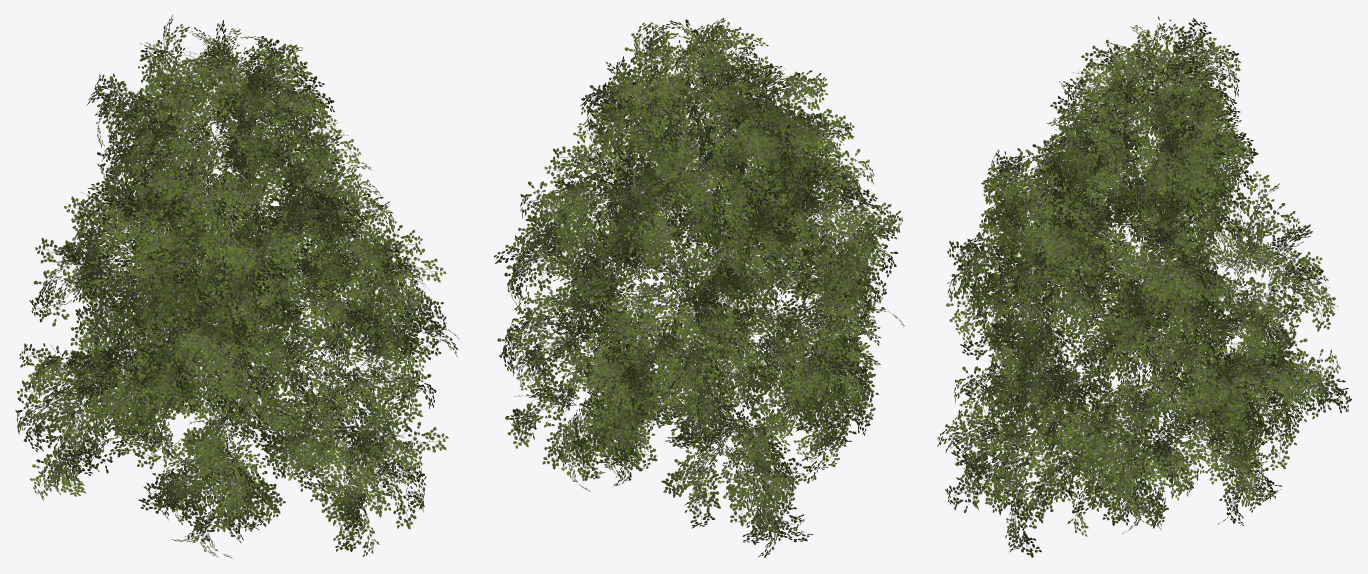
File: TREE LEAVES.fbx
The picture shows the model from 3 angles, left to right: view 1: azimuth 30°, elevation 25°; view 2: azimuth 150°, elevation 25°; view 3: azimuth 270°, elevation 25°; orthographic projection. The views are drawn at different scales.
Visible parts, largest first — view 1: Linden_LOD0_M_Branch.005_0; view 2: Linden_LOD0_M_Branch.005_0; view 3: Linden_LOD0_M_Branch.005_0.
Part boxes in pixels (bbox=[...]): Linden_LOD0_M_Branch.005_0: bbox=[15, 15, 461, 558]; Linden_LOD0_M_Branch.005_0: bbox=[493, 18, 904, 557]; Linden_LOD0_M_Branch.005_0: bbox=[937, 16, 1351, 557].
Size of the model in its own units: 1012 by 1315 by 1040.
1 material, 1 textured.
